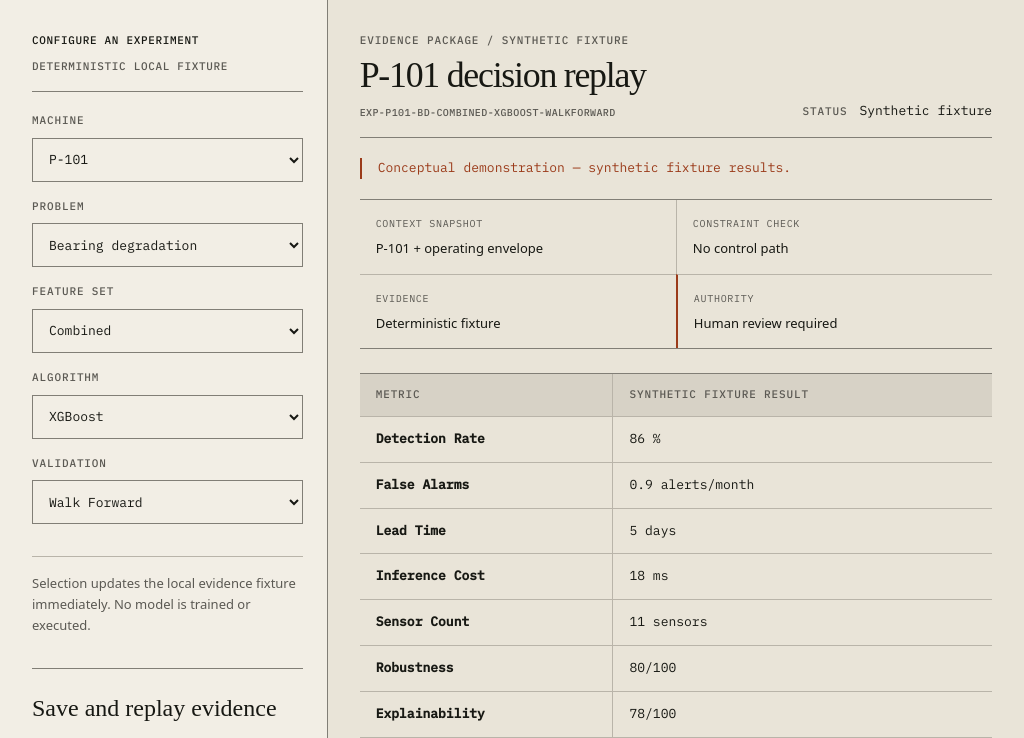
ExperimentDemo › recomputes deterministic evidence when Feature set changes
Select "Physics" in the dropdown labelled "Feature set". click: (167, 331)
box: [32,309,303,353]
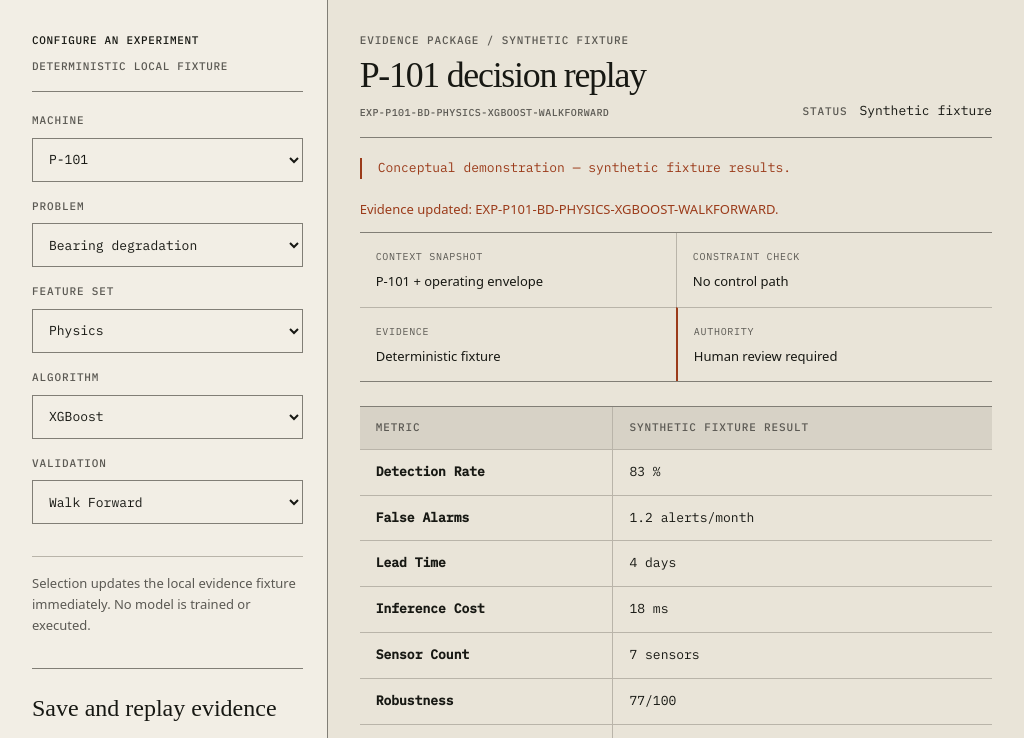
Result: the text with test id "experiment-id" no longer shows "EXP-P101-BD-COMBINED-XGBOOST-WALKFORWARD" at [360,105,646,121]
Result: the message shows "Evidence updated: EXP-P101-BD-" at [360,200,778,218]
